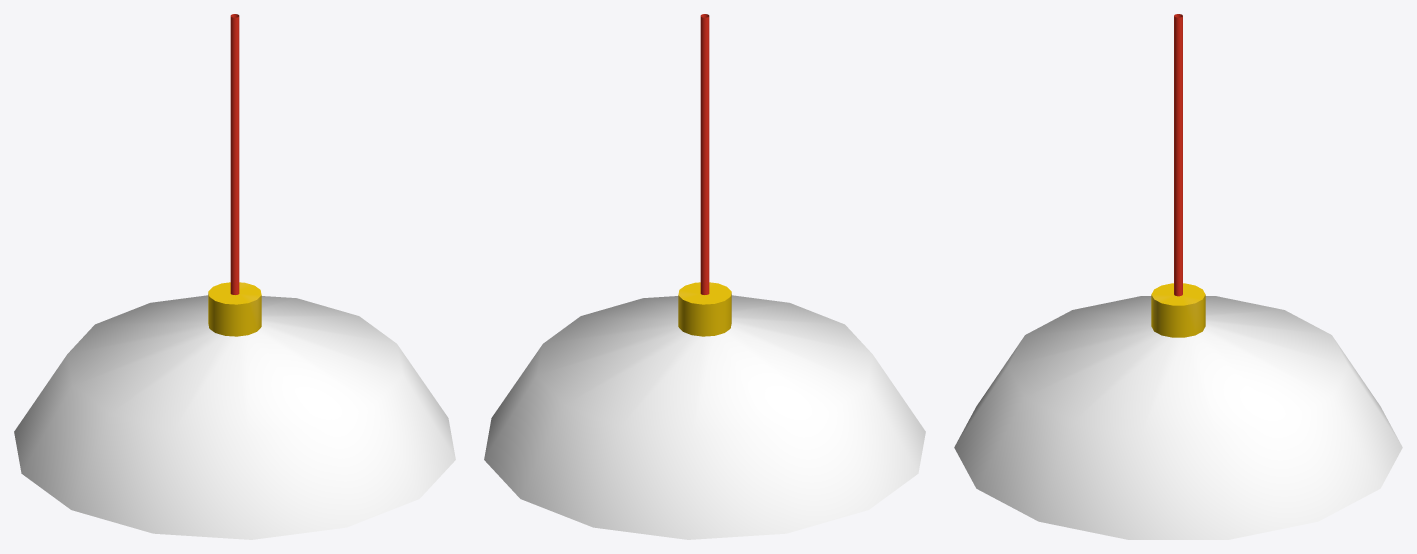
Rendered from chandelier_v2.fbx.
3 renders of one model, left to right at view 1: azimuth 30°, elevation 25°; view 2: azimuth 150°, elevation 25°; view 3: azimuth 270°, elevation 25°, orthographic.
Parts seen in each view (by area): view 1: Structure_V2; view 2: Structure_V2; view 3: Structure_V2.
Part boxes in pixels (x1,y1,x2,y2): Structure_V2: [14, 14, 455, 539]; Structure_V2: [484, 14, 925, 539]; Structure_V2: [954, 14, 1402, 539].
Size of the model in its own units: 81.43 by 88.67 by 83.52.
